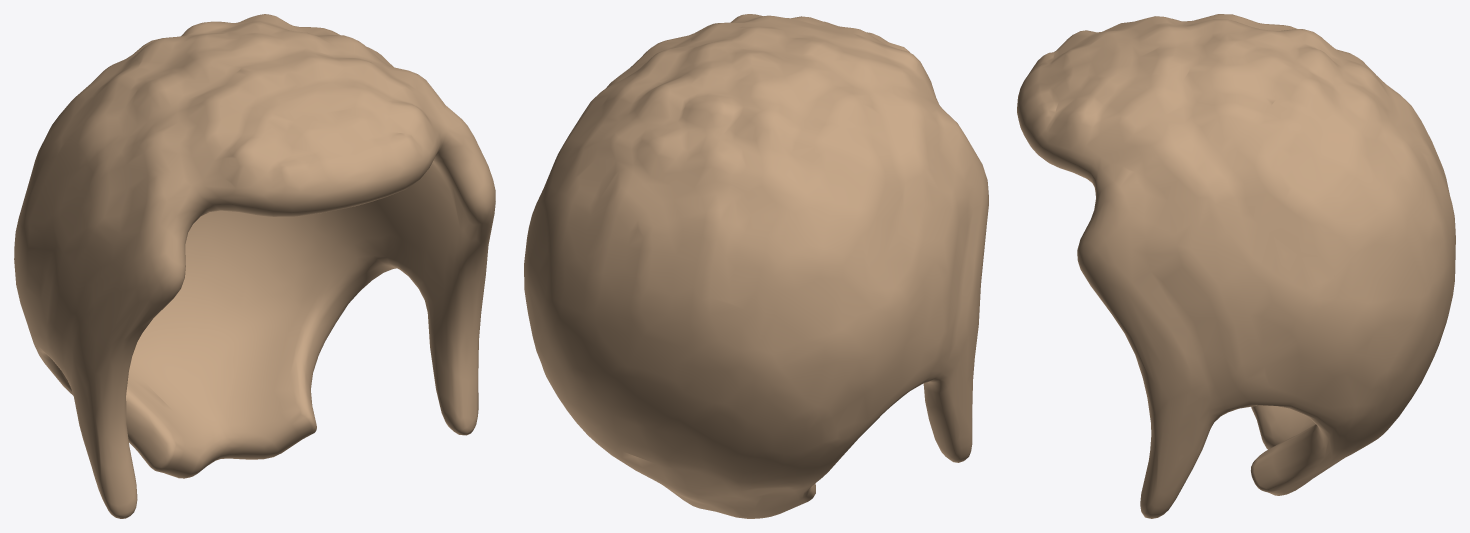
The model's file is hair-2-f9b9a176.glb.
3 views of the same model, side by side, from view 1: azimuth 30°, elevation 25°; view 2: azimuth 150°, elevation 25°; view 3: azimuth 270°, elevation 25° (orthographic). The views are drawn at different scales.
Parts seen in each view (by area): view 1: Geo_White_Older_Female_Hair_2.001; view 2: Geo_White_Older_Female_Hair_2.001; view 3: Geo_White_Older_Female_Hair_2.001.
Boxes of the visible parts, x1,y1,x2,y2 form: Geo_White_Older_Female_Hair_2.001: [14, 14, 495, 518]; Geo_White_Older_Female_Hair_2.001: [524, 14, 988, 518]; Geo_White_Older_Female_Hair_2.001: [1017, 14, 1455, 518].
Bounding box in the file's own units: 1.43 × 1.53 × 1.39.
